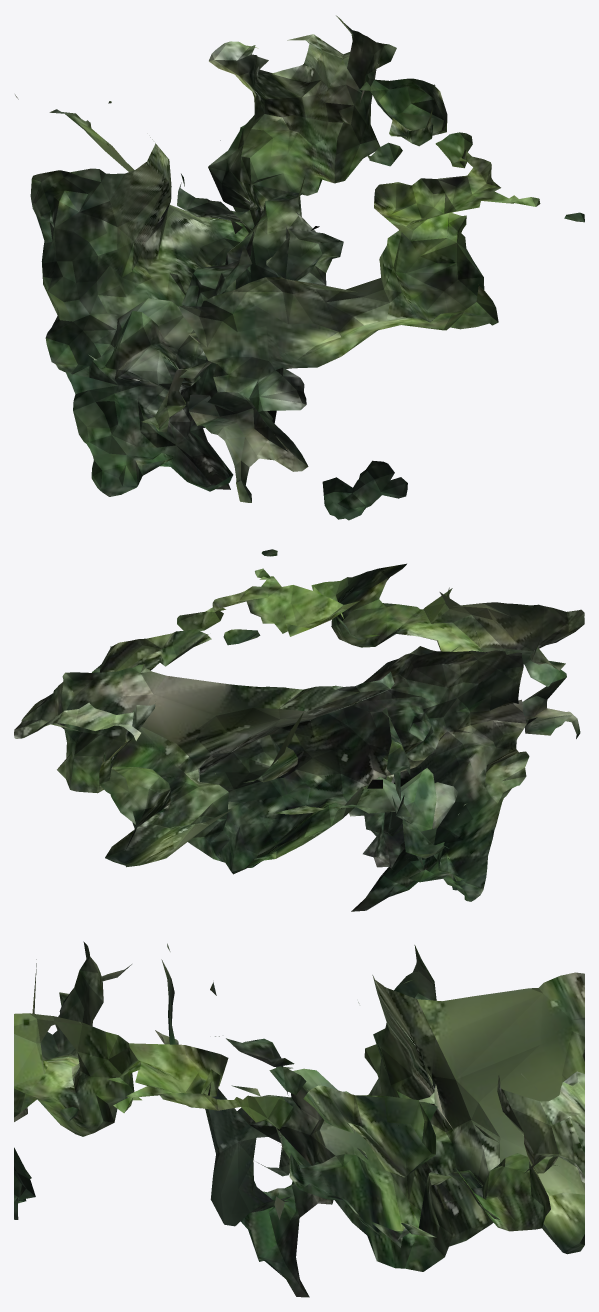
3 renders of one model, top to bottom at view 1: azimuth 30°, elevation 25°; view 2: azimuth 150°, elevation 25°; view 3: azimuth 270°, elevation 25°, orthographic. The views are drawn at different scales.
Bounding box in the file's own units: 21.24 × 14.73 × 26.11.
Materials: 4 (4 with a texture image).
